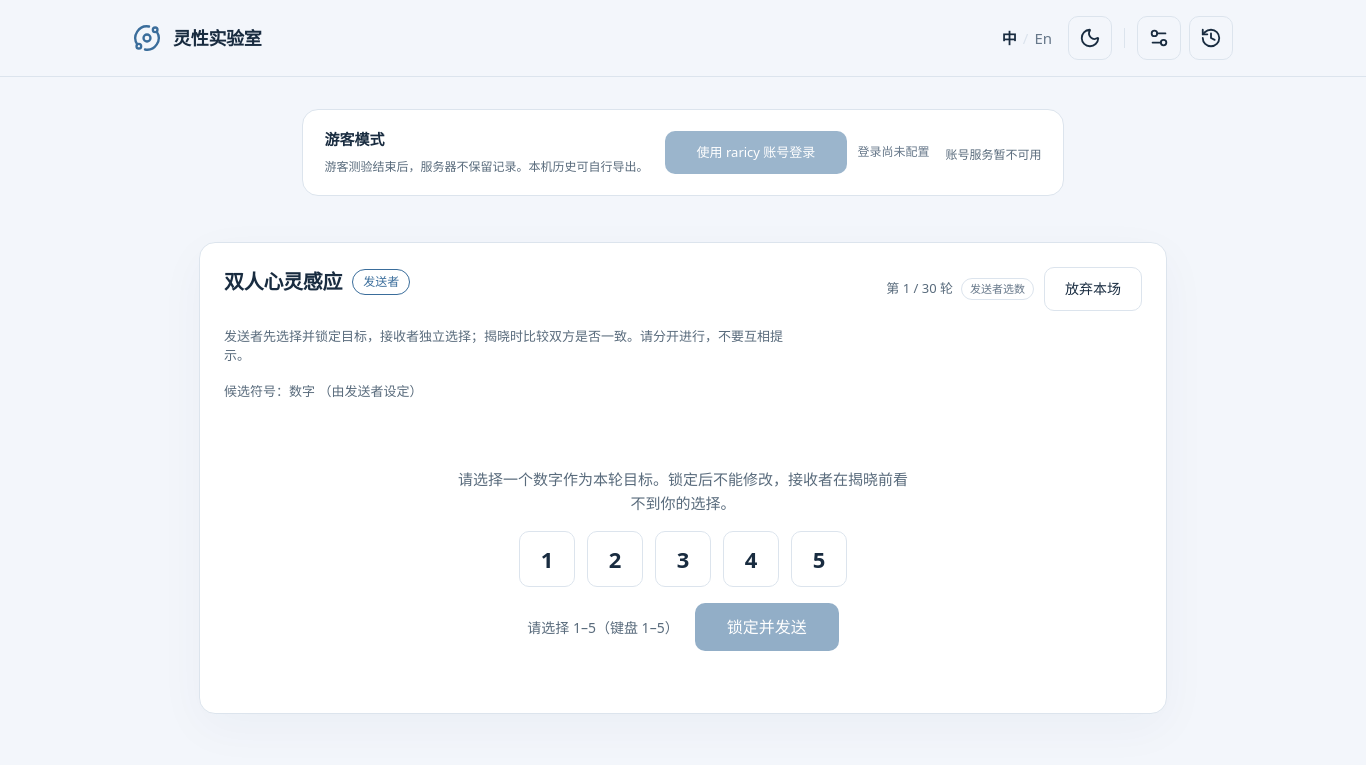
Test: App locks the sender target through the API and keeps it across language changes
The image size is (1366, 765).
Click the radio button labelled "3" at (683, 559), box [655,531,711,587]
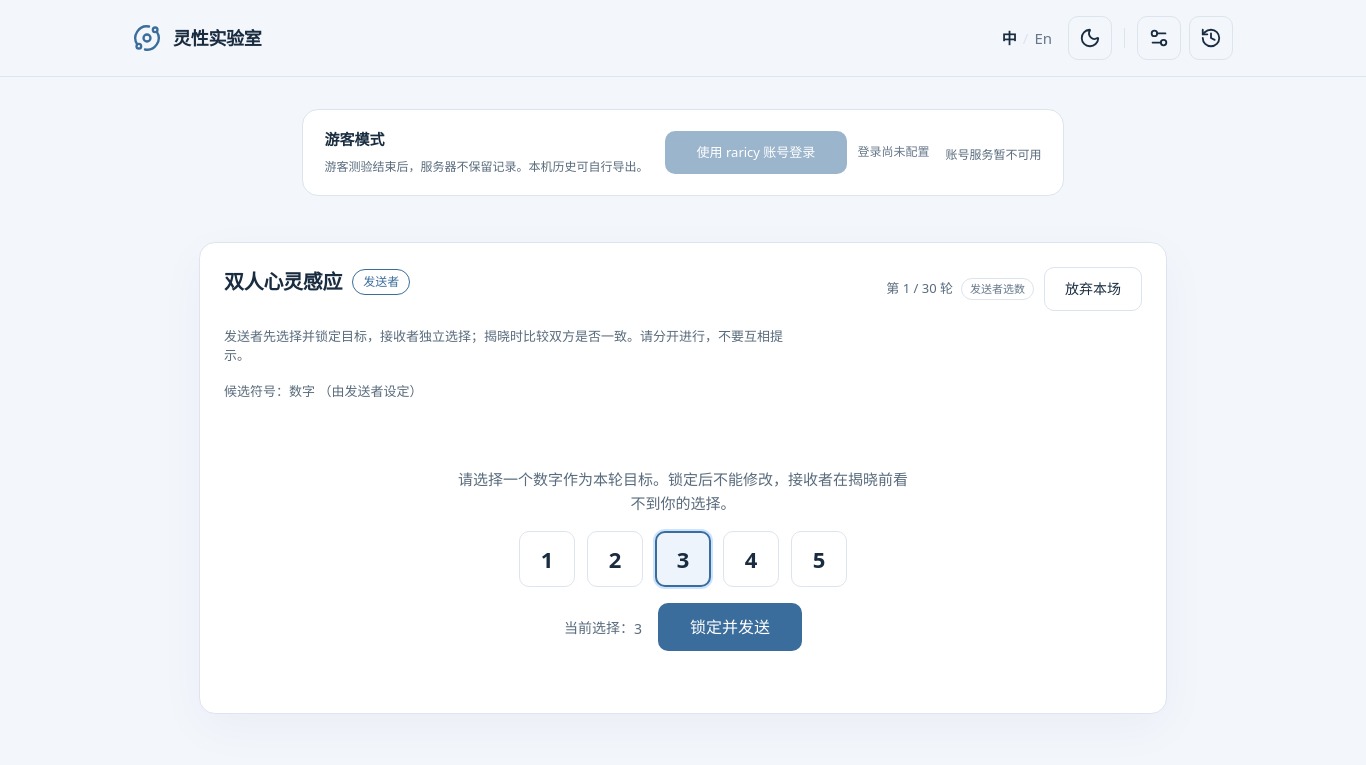
Click the button "锁定并发送" at (730, 627), box [658,603,802,651]
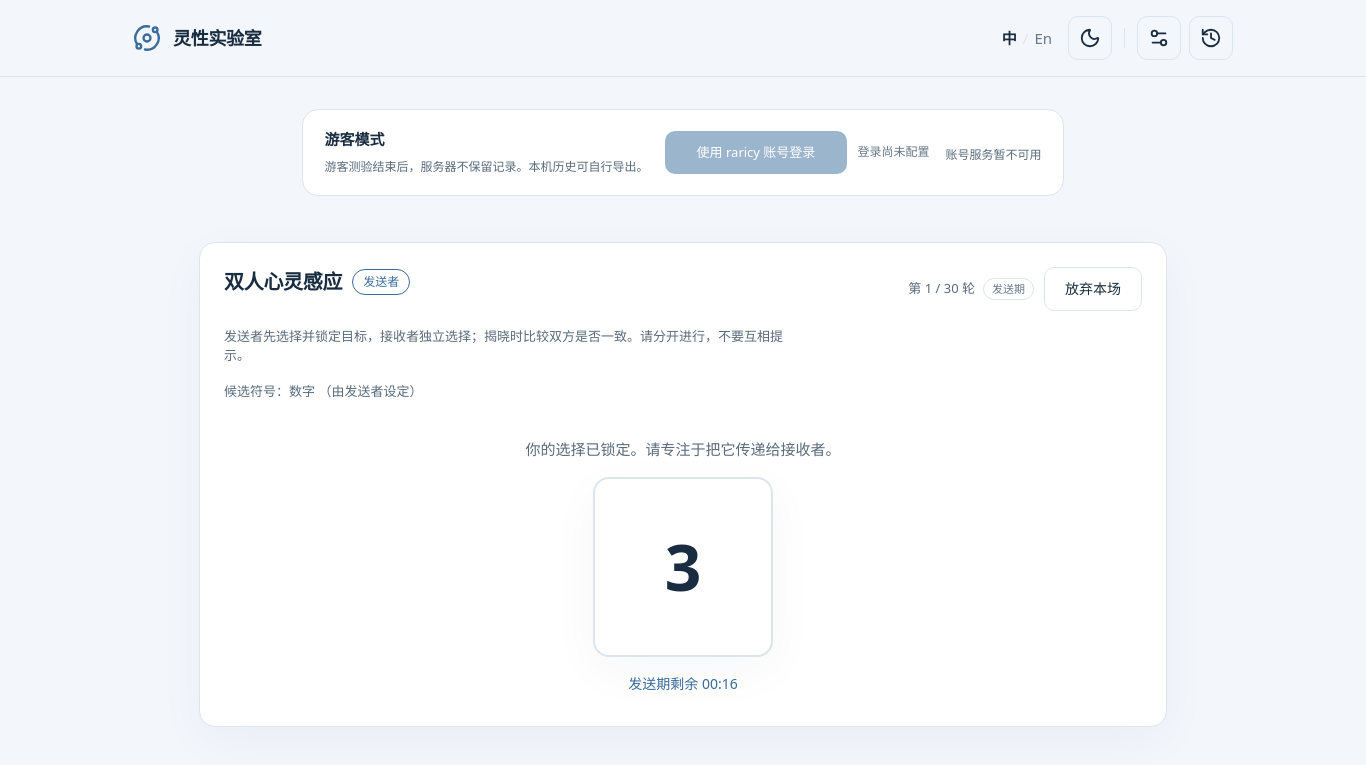
Expected: the picture named "目标数字 3" is shown, [593,477,773,657]
Expected: the radio button is gone
Click the button with aria-label "切换语言" at (1027, 38), box [994,16,1060,60]
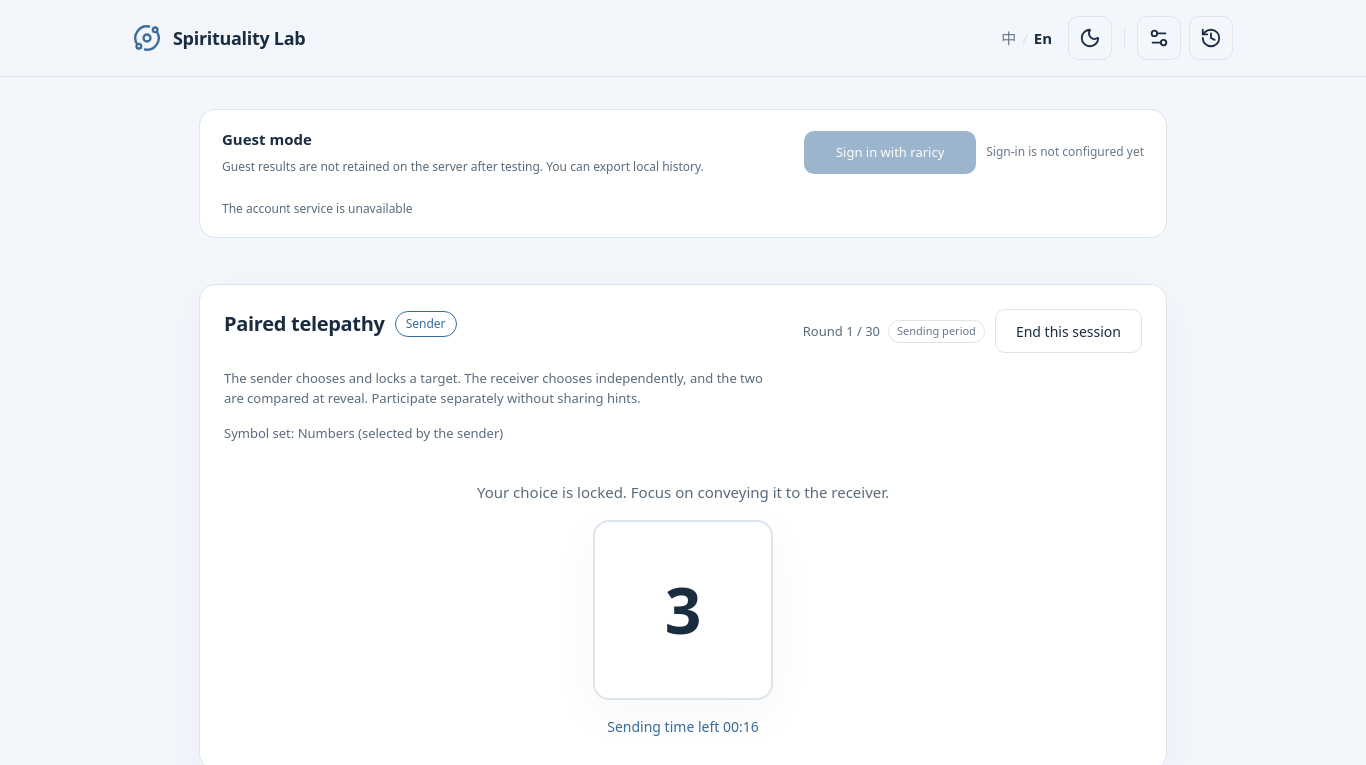
Expected: the text "Your choice is locked. Focus on conveying it to the receiver." is shown, [477,480,889,504]
